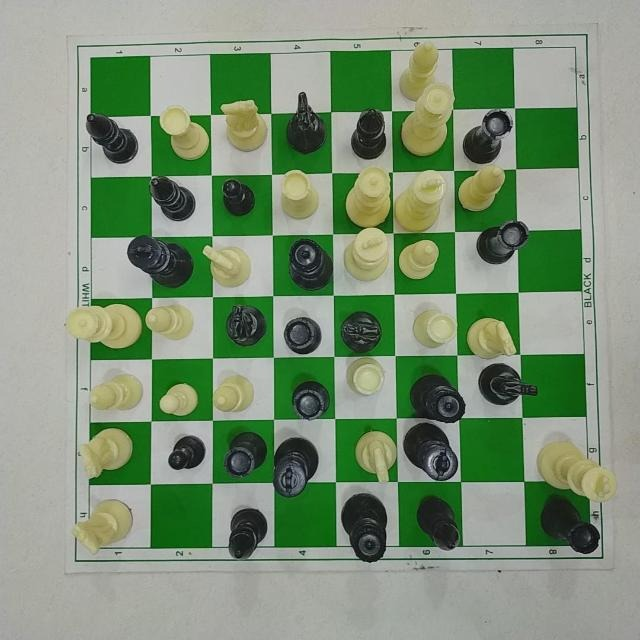black-bishop: (407, 487, 466, 562), (78, 105, 141, 169), (143, 168, 200, 224), (221, 501, 269, 562), (343, 102, 389, 164)
black-king: (119, 229, 201, 296), (264, 429, 328, 501), (400, 417, 468, 484)
black-knight: (470, 357, 545, 411), (281, 84, 330, 159), (220, 293, 273, 356), (337, 307, 389, 355)
black-pawn: (160, 431, 218, 478), (214, 172, 261, 224)
black-queen: (338, 492, 395, 564), (402, 369, 471, 427), (280, 231, 338, 297)
black-rook: (530, 495, 604, 559), (448, 103, 517, 169), (466, 214, 537, 271), (222, 421, 272, 483), (290, 366, 336, 427), (280, 316, 328, 364)
white-bishop: (389, 34, 450, 105), (79, 367, 147, 424), (452, 162, 514, 218), (205, 367, 262, 424), (389, 236, 445, 284), (142, 302, 198, 346)
white-king: (532, 426, 622, 506), (388, 160, 450, 237), (341, 223, 393, 284)
white-knight: (67, 492, 147, 559), (70, 423, 147, 488), (209, 90, 270, 154), (202, 231, 262, 293), (466, 309, 523, 367), (346, 427, 400, 486)
white-pawn: (156, 374, 200, 422)
white-queen: (58, 294, 152, 355), (391, 80, 463, 159), (337, 164, 396, 233)
white-rook: (152, 96, 215, 162), (270, 161, 328, 222), (333, 354, 394, 404), (408, 297, 460, 353)
